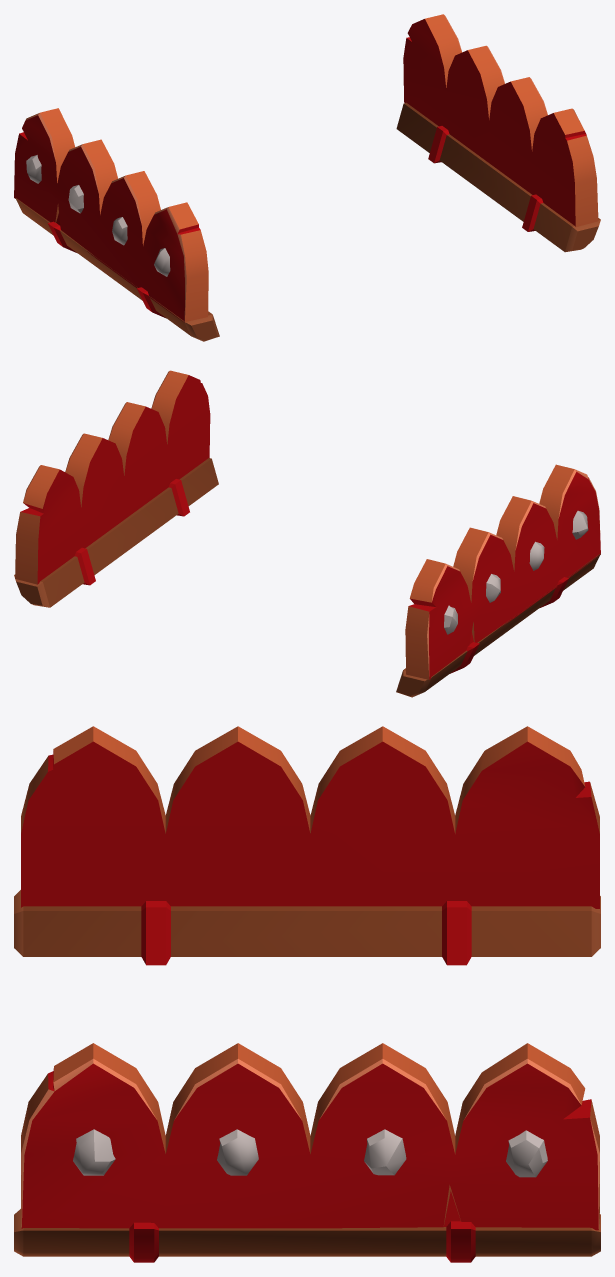
Rendered from Armor_Rowboat.fbx.
3 views of the same model, one above another, from view 1: azimuth 30°, elevation 25°; view 2: azimuth 150°, elevation 25°; view 3: azimuth 270°, elevation 25° (orthographic). The views are drawn at different scales.
Parts seen in each view (by area): view 1: Armor_Color_08, Armor_Color_07, Armor_Color_06, Armor_Color_05; view 2: Armor_Color_08, Armor_Color_07, Armor_Color_06, Armor_Color_05; view 3: Armor_Color_07, Armor_Color_08, Armor_Color_06, Armor_Color_05.
Boxes of the visible parts, box(x1,y1,x2,y2) form: Armor_Color_08: box(14, 108, 208, 322); Armor_Color_07: box(403, 14, 598, 226); Armor_Color_06: box(15, 102, 600, 341); Armor_Color_05: box(47, 126, 543, 318); Armor_Color_08: box(405, 464, 600, 679); Armor_Color_07: box(15, 370, 210, 584); Armor_Color_06: box(14, 458, 600, 697); Armor_Color_05: box(74, 479, 568, 673); Armor_Color_07: box(21, 1043, 599, 1230); Armor_Color_08: box(21, 726, 599, 908); Armor_Color_06: box(14, 890, 600, 1256); Armor_Color_05: box(129, 901, 475, 1262).
Size of the model in its own units: 18.04 by 5.07 by 12.62.
